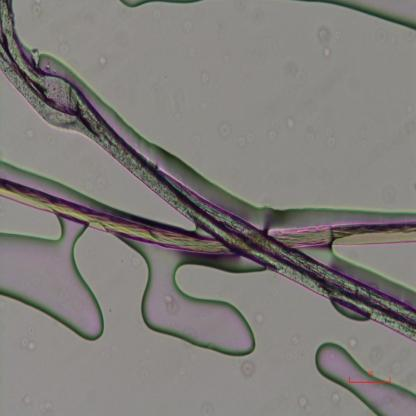Air bubble: (130, 244, 259, 355), (0, 216, 107, 343), (316, 341, 416, 415), (314, 1, 416, 32), (118, 0, 192, 11)
Background material: (22, 322, 38, 352), (367, 346, 386, 367), (216, 119, 232, 141), (240, 358, 255, 376), (299, 394, 314, 412), (22, 391, 34, 408), (318, 28, 330, 44), (330, 390, 342, 405), (322, 44, 333, 60), (100, 52, 108, 68)
Microfibre: (0, 0, 416, 340), (0, 177, 416, 256)
